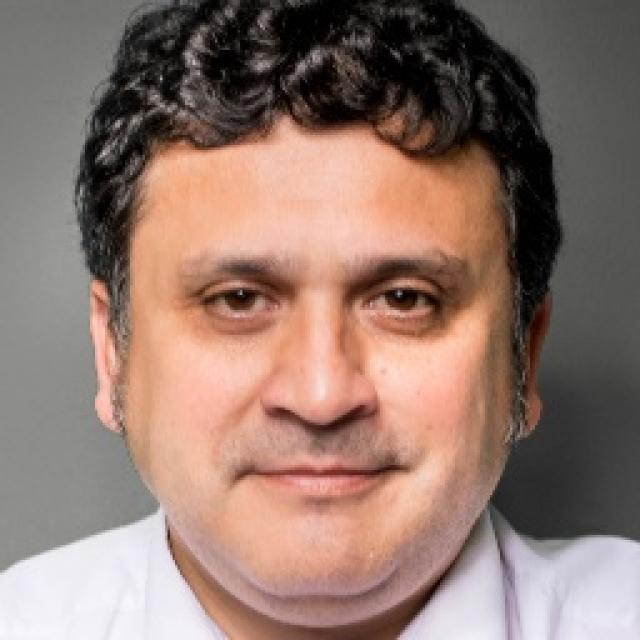earlobe: (94, 390, 121, 436), (516, 402, 544, 439)
eye: (198, 285, 284, 319), (366, 286, 438, 316)
nose: (263, 403, 372, 452)
wholeear: (514, 286, 556, 440), (88, 282, 124, 436)
